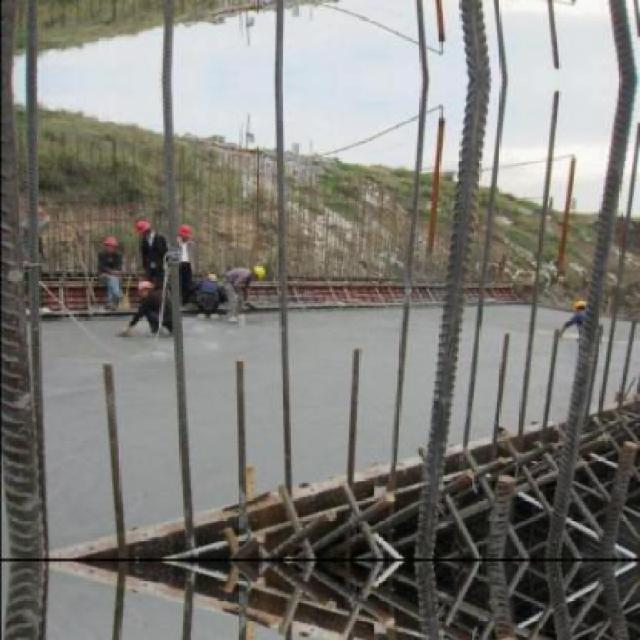con casco: (230, 250, 288, 296)
